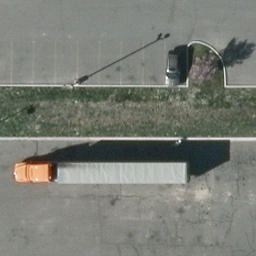car: (165, 52, 183, 85)
truck: (12, 163, 192, 188)
